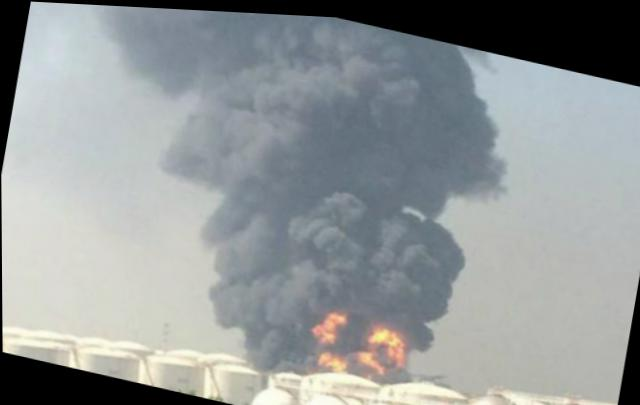fire: (314, 303, 345, 341), (370, 320, 409, 345), (320, 346, 351, 368), (355, 344, 387, 365), (386, 338, 411, 362)
